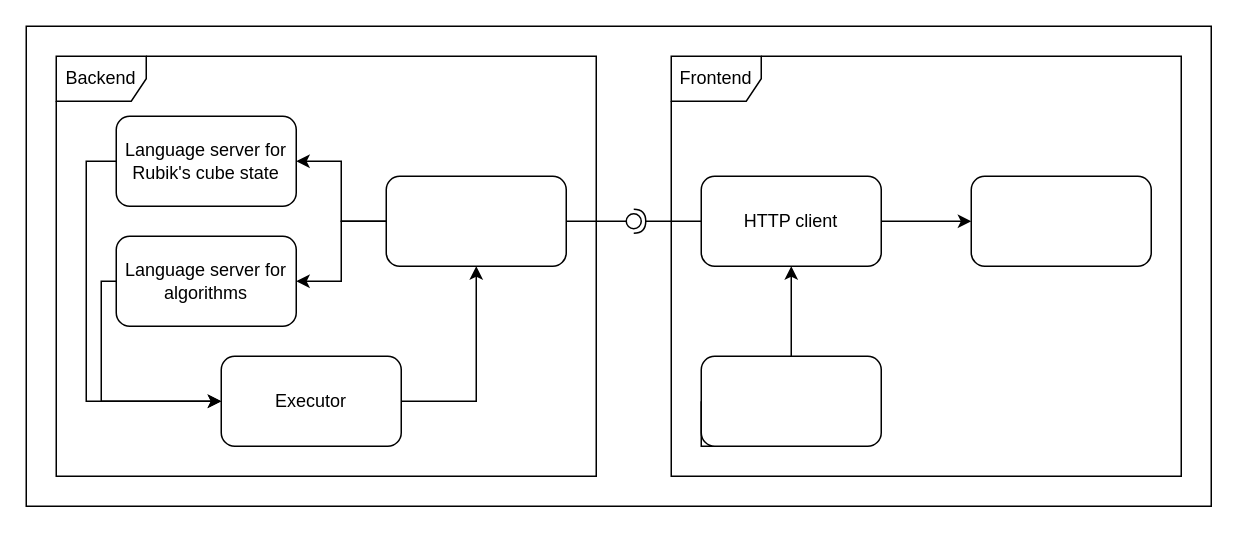
This 1238x533 diagram has some shape labels left out. The centre of each missing label's shape, as x and y in pixels:
"HTTP server" goes at [475,220].
"Text editor" goes at [790,400].
"Visualizer" goes at [1060,220].
